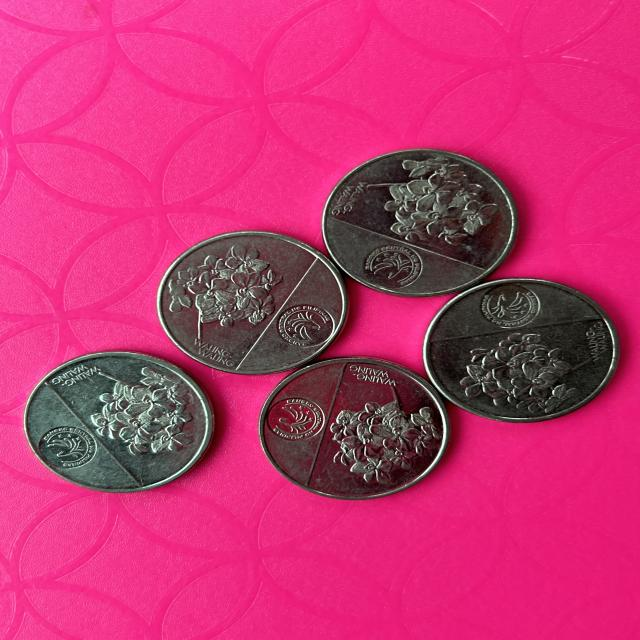1_New_Back: (359, 157, 504, 250), (334, 386, 441, 477), (172, 242, 280, 329), (457, 336, 584, 408), (84, 372, 184, 446)
